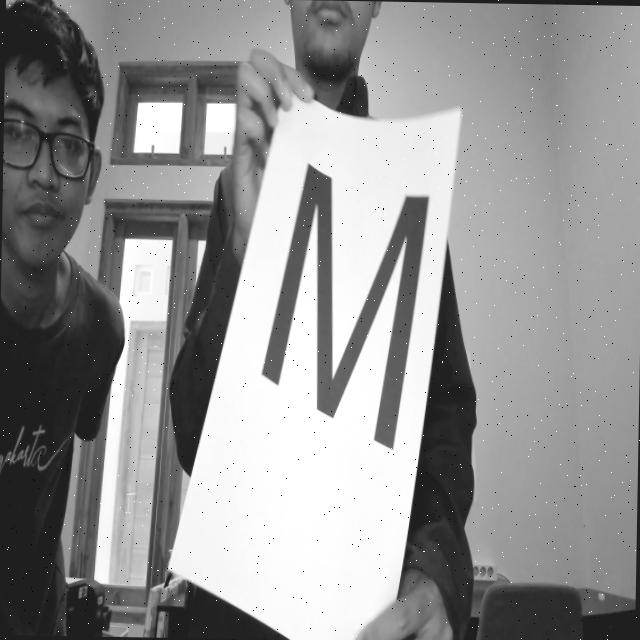m: (247, 164, 434, 456)
